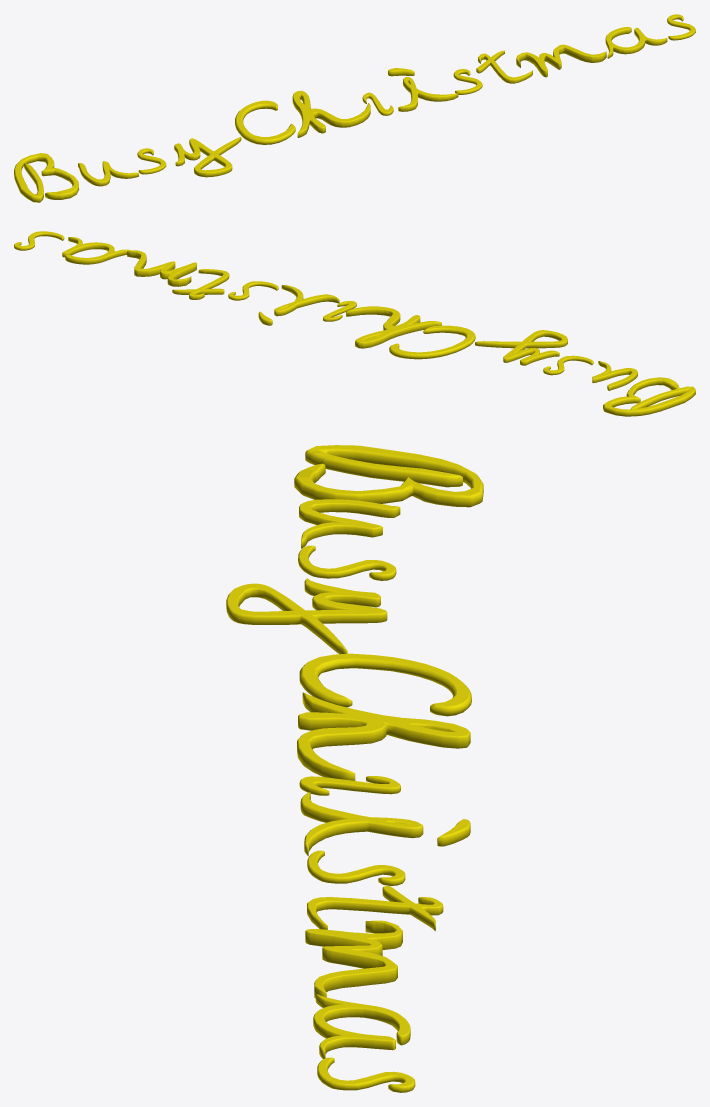
The model's file is title09180110-2.fbx.
3 renders of one model, top to bottom at view 1: azimuth 30°, elevation 25°; view 2: azimuth 150°, elevation 25°; view 3: azimuth 270°, elevation 25°, orthographic. The views are drawn at different scales.
Parts seen in each view (by area): view 1: 平面; view 2: 平面; view 3: 平面.
Boxes of the visible parts, x1=… form: 平面: x1=14, y1=14, x2=695, y2=202; 平面: x1=14, y1=231, x2=695, y2=416; 平面: x1=226, y1=445, x2=483, y2=1092.
Bounding box in the file's own units: 0.7488 × 0.0105 × 0.1263.
